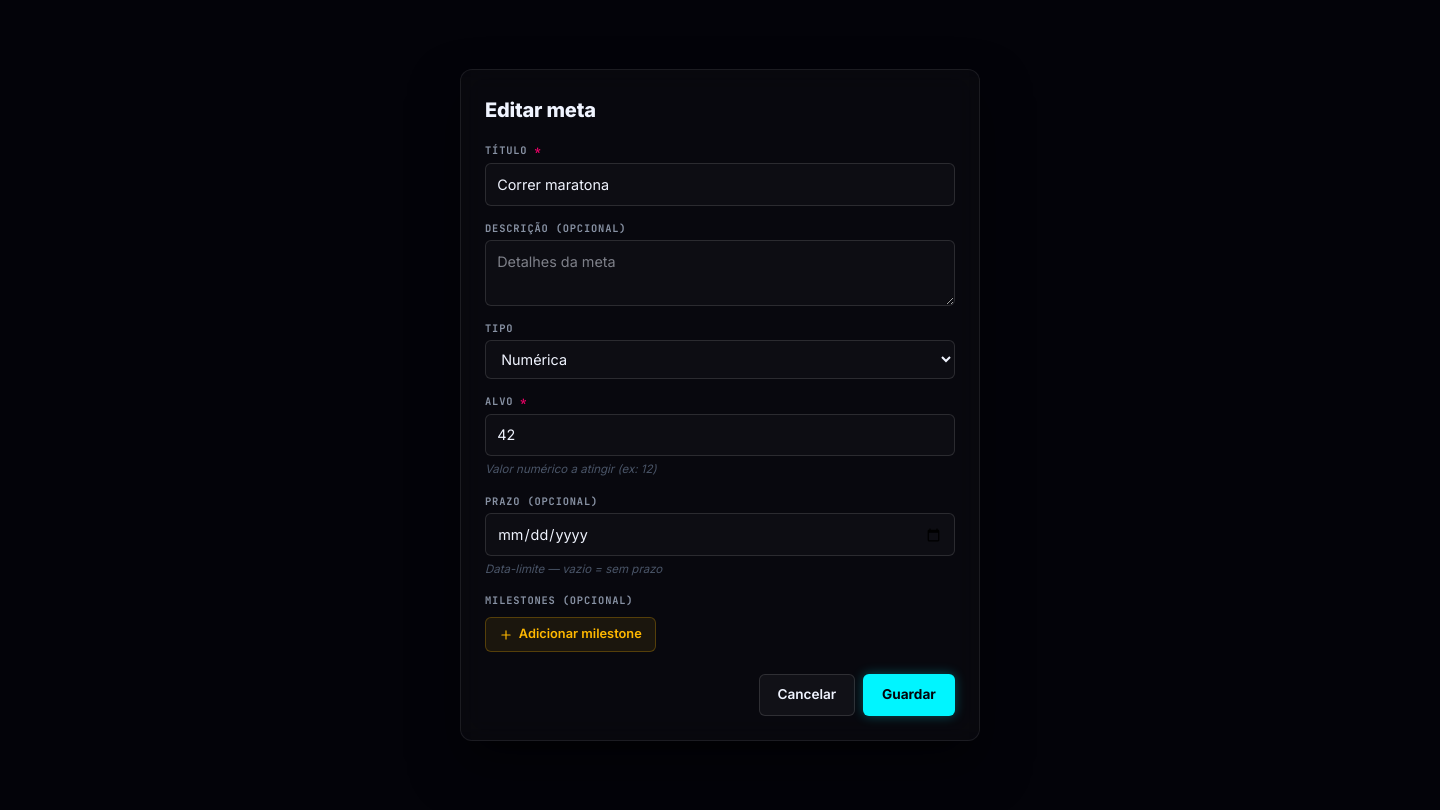
Test: GoalFormModal (Story 4.5 / AC4) › C2b — edit: alterar tipo para Booleana oculta o campo Alvo
Expected: the number field labelled "Alvo *" is shown, [485,414,955,456]
Select "Booleana (sim/não)" in the dropdown labelled "Tipo" at (720, 360), box [485,340,955,379]
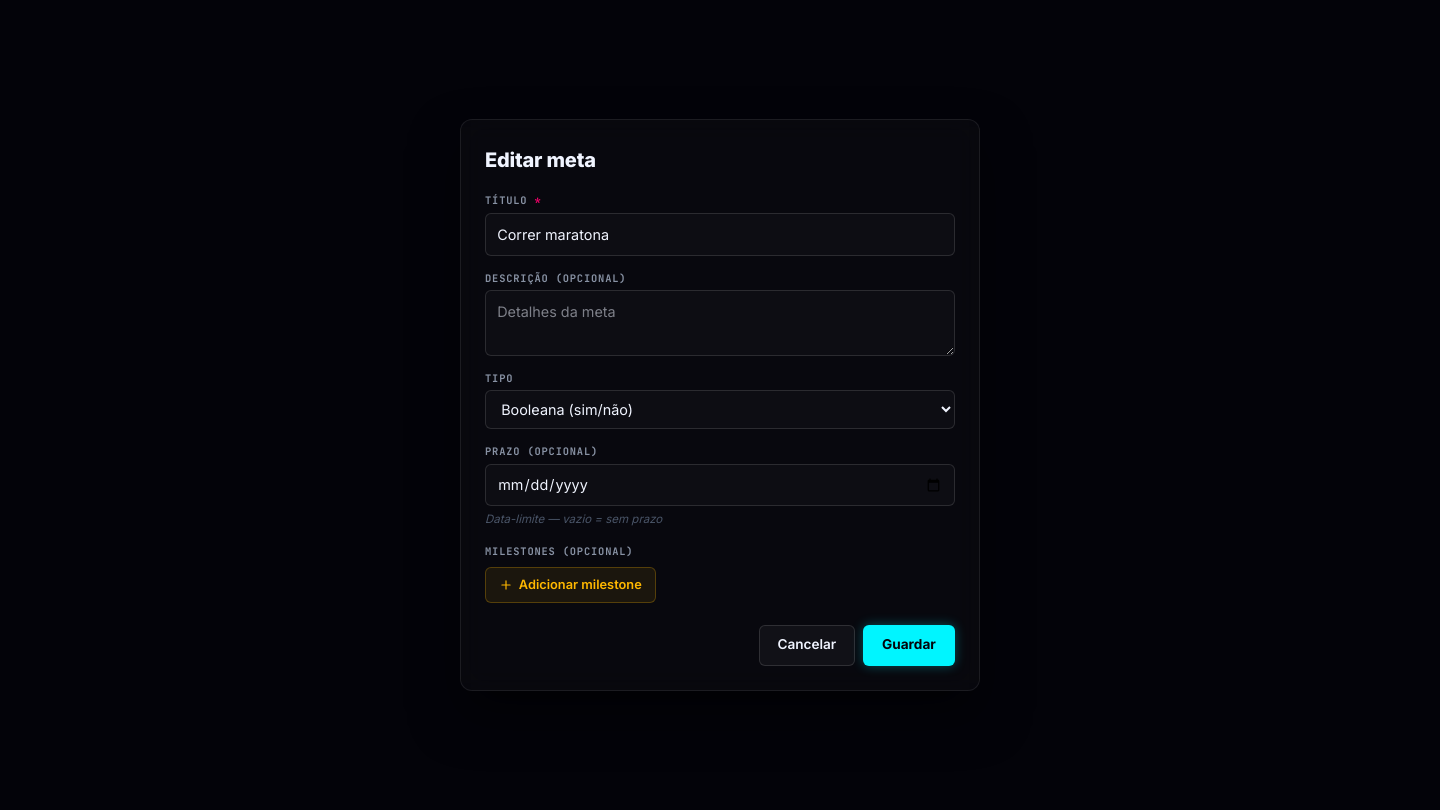
Expected: the label labelled "Alvo" is gone
